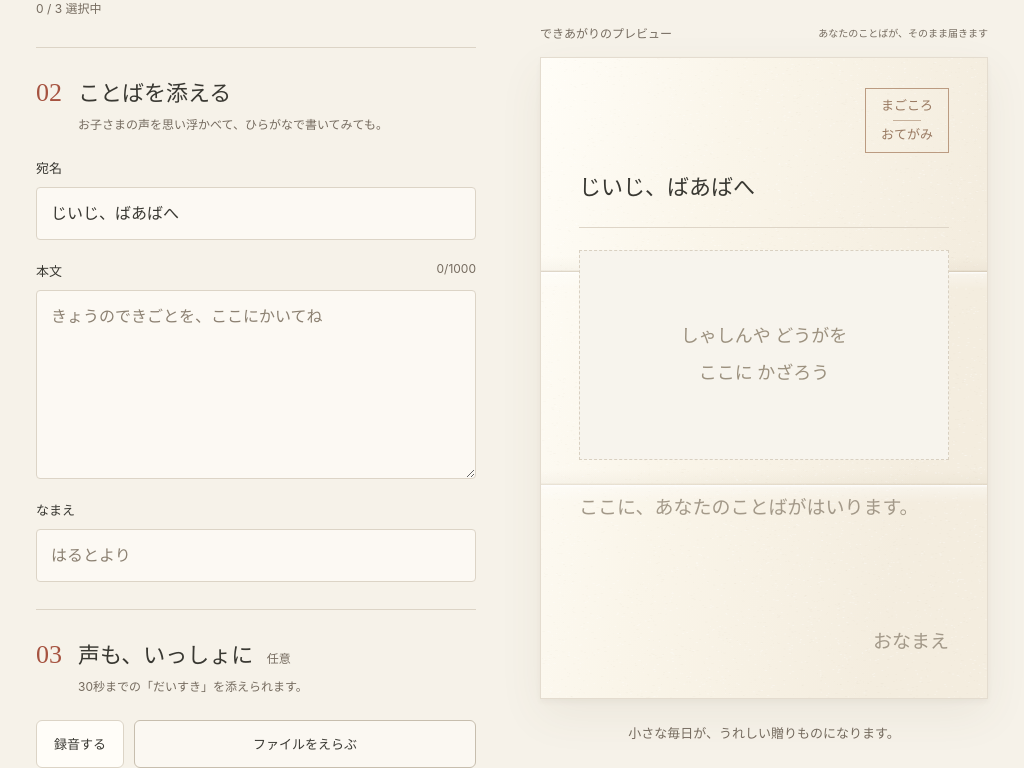
Scenario: ComposePage › keeps other fields when recording is denied
The image size is (1024, 768).
(page scrolled)
Type "きょうね、たてたよ" into the text box labelled "本文".
click(256, 384); type("きょうね、たてたよ")  # box [36,290,476,479]
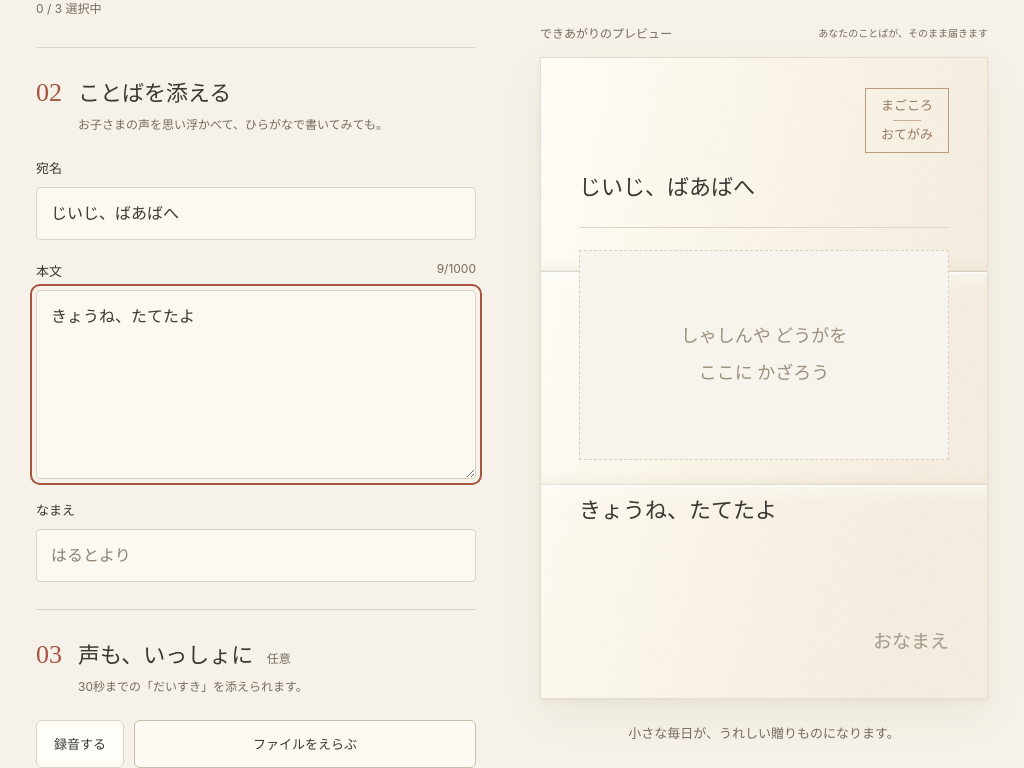
Click the button "録音する".
click(80, 744)  # box [36,720,124,767]
(page scrolled)
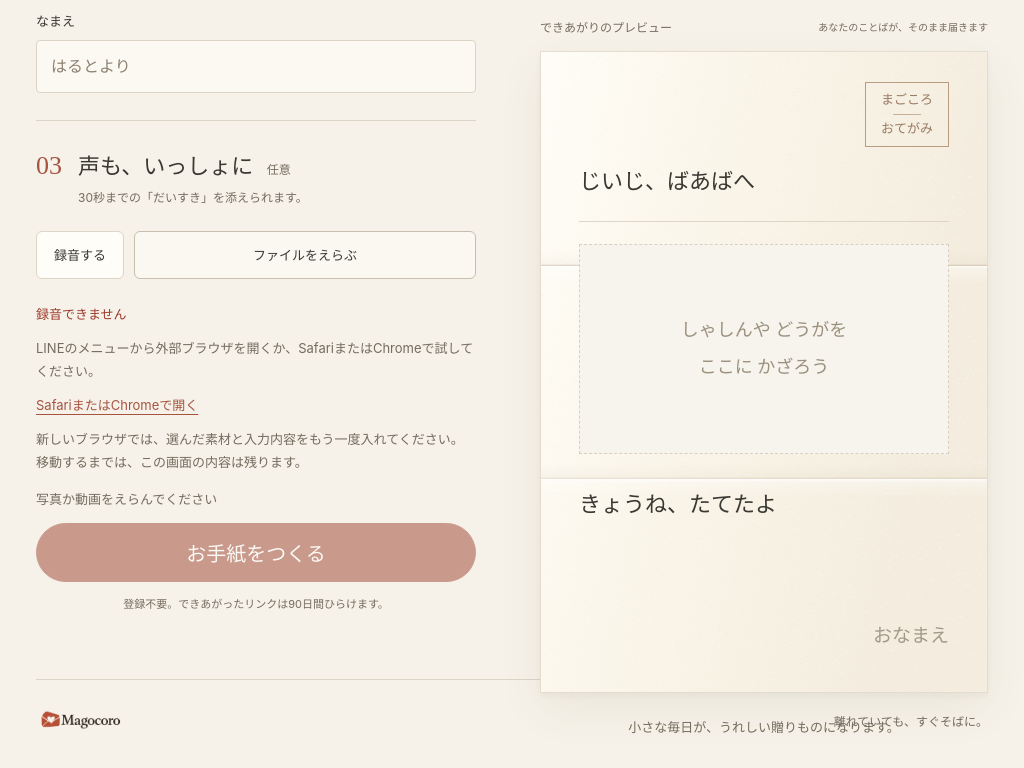
Expected: the text "録音できません" is shown, [36,306,127,322]
Expected: the text "新しいブラウザでは、選んだ素材と入力内容をもう一度入れてください。移動するまでは、この画面の内容は残ります。" is shown, [36,428,476,474]
